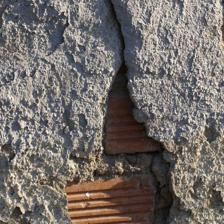Crack: (0, 0, 124, 131), (26, 35, 107, 145)
